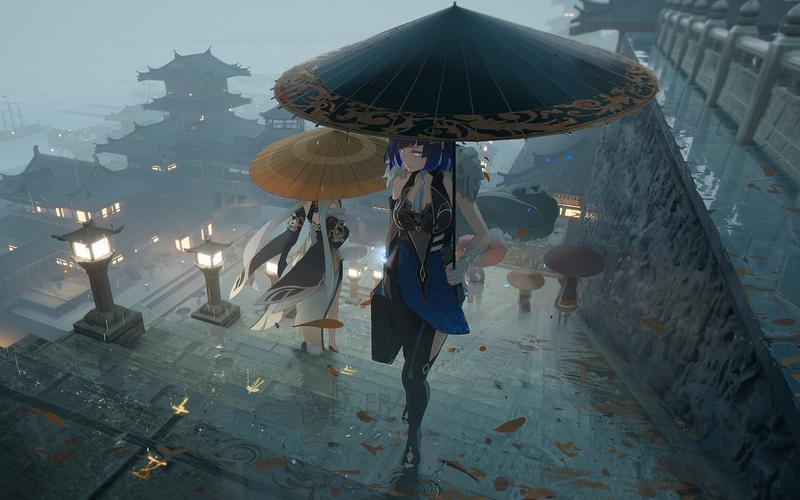夜兰: (368, 114, 496, 474)
